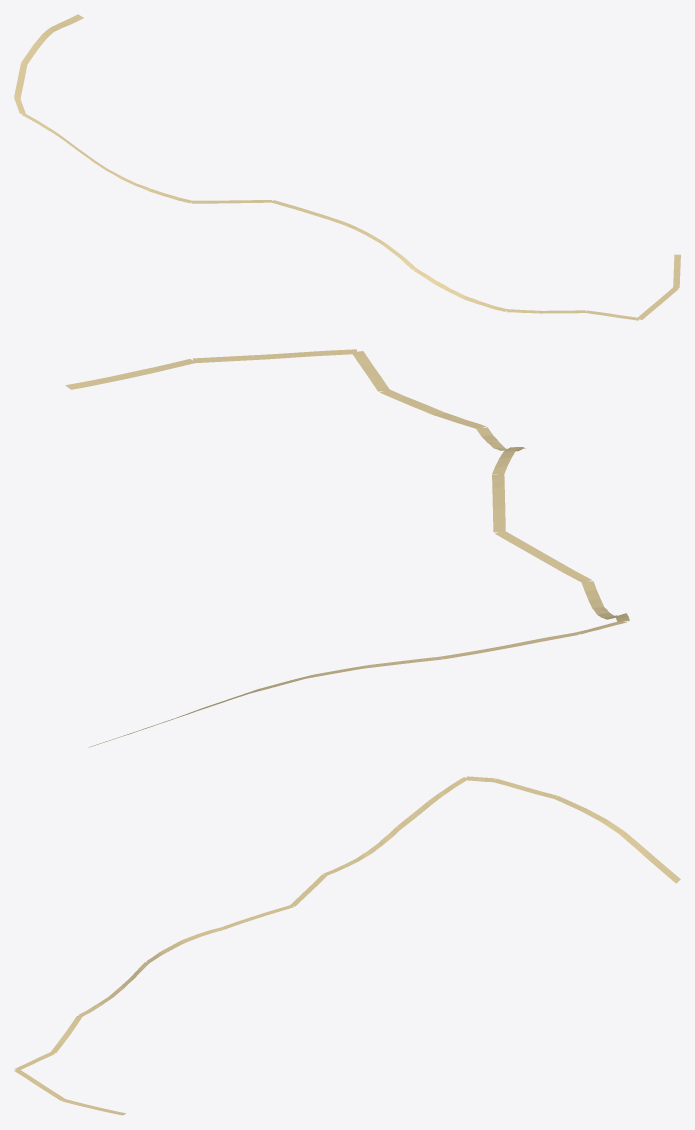
File: Trail_06.glb
3 renders of one model, top to bottom at view 1: azimuth 30°, elevation 25°; view 2: azimuth 150°, elevation 25°; view 3: azimuth 270°, elevation 25°, orthographic. The views are drawn at different scales.
Parts seen in each view (by area): view 1: Trail_06; view 2: Trail_06; view 3: Trail_06.
Boxes of the visible parts, bbox=[...] form: Trail_06: bbox=[14, 14, 680, 320]; Trail_06: bbox=[65, 349, 629, 747]; Trail_06: bbox=[14, 776, 680, 1115].
Bounding box in the file's own units: 147 × 38.11 × 188.
